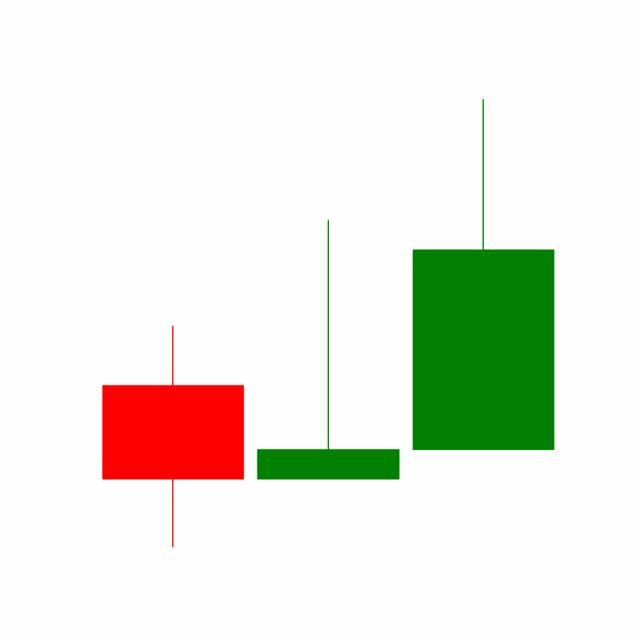Gravestone Doji: (250, 218, 407, 483)
